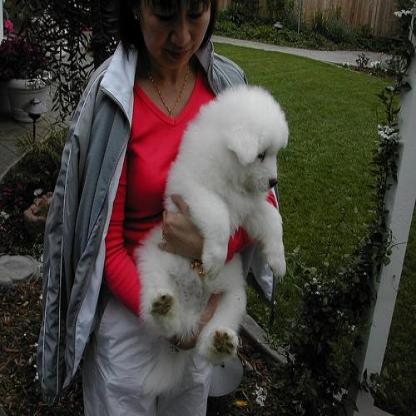Samoyed: (136, 83, 290, 366)
